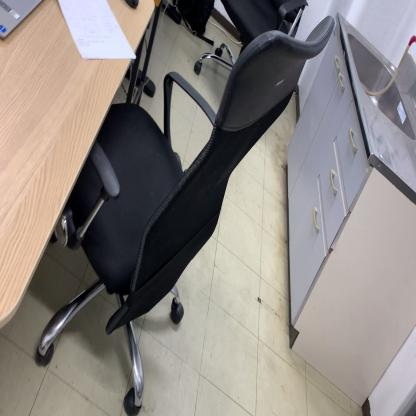chair: (33, 14, 337, 416), (193, 2, 308, 75)
